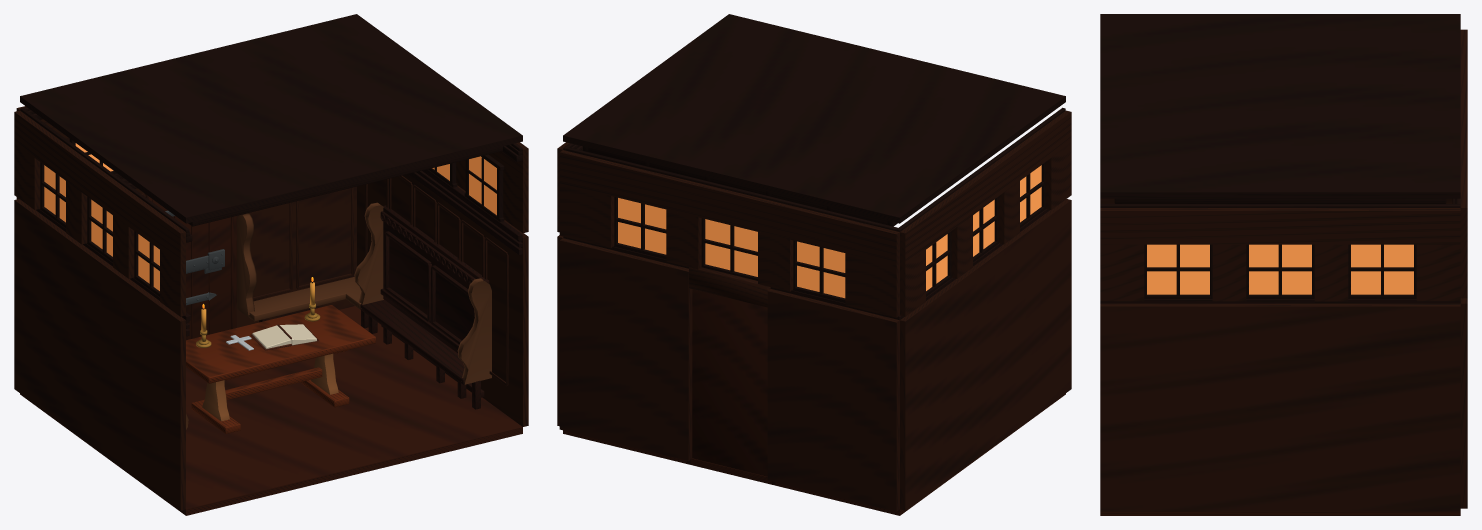
The model's file is realm-mvp-sanctuary-v2-final-art.glb.
3 views of the same model, side by side, from view 1: azimuth 30°, elevation 25°; view 2: azimuth 150°, elevation 25°; view 3: azimuth 270°, elevation 25° (orthographic). The views are drawn at different scales.
Visible parts, largest first — view 1: HF01_Ceiling__CeilingBase, HF01_RoomShell__Wall_West_Lower, HF01_Floor__Floor, HF01_RoomShell__Wall_East_Lower, HF01_RoomShell__NorthLower_East, HF01_PrayerTable__Table_Top, HF01_RoomShell, HF01_RoomShell__WestUpperHeader, HF01_BenchRight__Bench_East_Backboard, HF01_DoorStaticWorld__Door_North_Slab, HF01_Ceiling, HF01_BenchRight__Bench_East_Seat (+18 smaller); view 2: HF01_Ceiling__CeilingBase, HF01_RoomShell__Wall_West_Lower, HF01_RoomShell__NorthLower_West, HF01_RoomShell__NorthLower_East, HF01_RoomShell, HF01_DoorStaticWorld__Door_North_Slab, HF01_RoomShell__NorthUpperHeader, HF01_RoomShell__WestUpperHeader, HF01_Ceiling, HF01_Clerestory__Window_North_Center_Glass, HF01_Clerestory__Window_North_West_Glass, HF01_Floor__Floor (+7 smaller); view 3: HF01_RoomShell__Wall_East_Lower, HF01_Ceiling__CeilingBase, HF01_RoomShell__EastUpperHeader, HF01_RoomShell, HF01_Ceiling, HF01_Clerestory__Window_East_00_Glass, HF01_Clerestory__Window_East_01_Glass, HF01_Clerestory__Window_East_02_Glass, HF01_Floor__Floor, HF01_RoomShell__NorthUpperHeader, HF01_RoomShell__NorthLower_East, HF01_UpperMolding__ClerestoryBand_East.
Part boxes in pixels (x1,y1,x2,y2): HF01_Ceiling__CeilingBase: (20,14,522,223); HF01_RoomShell__Wall_West_Lower: (14,199,185,510); HF01_Floor__Floor: (20,306,522,515); HF01_RoomShell__Wall_East_Lower: (357,174,528,426); HF01_RoomShell__NorthLower_East: (236,186,356,327); HF01_PrayerTable__Table_Top: (186,305,375,383); HF01_RoomShell: (14,132,528,316); HF01_RoomShell__WestUpperHeader: (14,110,185,264); HF01_BenchRight__Bench_East_Backboard: (383,205,489,353); HF01_DoorStaticWorld__Door_North_Slab: (152,199,230,340); HF01_Ceiling: (20,107,522,242); HF01_BenchRight__Bench_East_Seat: (360,299,464,384); HF01_Ceiling__CeilingBase: (563,14,1065,223); HF01_RoomShell__Wall_West_Lower: (900,199,1071,510); HF01_RoomShell__NorthLower_West: (767,289,899,511); HF01_RoomShell__NorthLower_East: (559,238,691,460); HF01_RoomShell: (557,143,1071,317); HF01_DoorStaticWorld__Door_North_Slab: (692,289,767,476); HF01_RoomShell__NorthUpperHeader: (559,150,899,265); HF01_RoomShell__WestUpperHeader: (900,110,1071,264); HF01_Ceiling: (563,107,1065,231); HF01_Clerestory__Window_North_Center_Glass: (705,219,757,276); HF01_Clerestory__Window_North_West_Glass: (797,241,845,298); HF01_Floor__Floor: (563,393,1065,515); HF01_RoomShell__Wall_East_Lower: (1100,303,1460,511); HF01_Ceiling__CeilingBase: (1100,14,1460,198); HF01_RoomShell__EastUpperHeader: (1100,208,1460,244); HF01_RoomShell: (1100,241,1467,301); HF01_Ceiling: (1100,198,1460,207); HF01_Clerestory__Window_East_00_Glass: (1147,244,1209,294); HF01_Clerestory__Window_East_01_Glass: (1249,244,1311,294); HF01_Clerestory__Window_East_02_Glass: (1351,244,1413,294); HF01_Floor__Floor: (1100,511,1460,515); HF01_RoomShell__NorthUpperHeader: (1460,29,1467,241); HF01_RoomShell__NorthLower_East: (1460,298,1467,508); HF01_UpperMolding__ClerestoryBand_East: (1100,299,1460,303).
Bounding box in the file's own units: 9.92 × 8.12 × 8.36.
19 materials, 8 textured.
